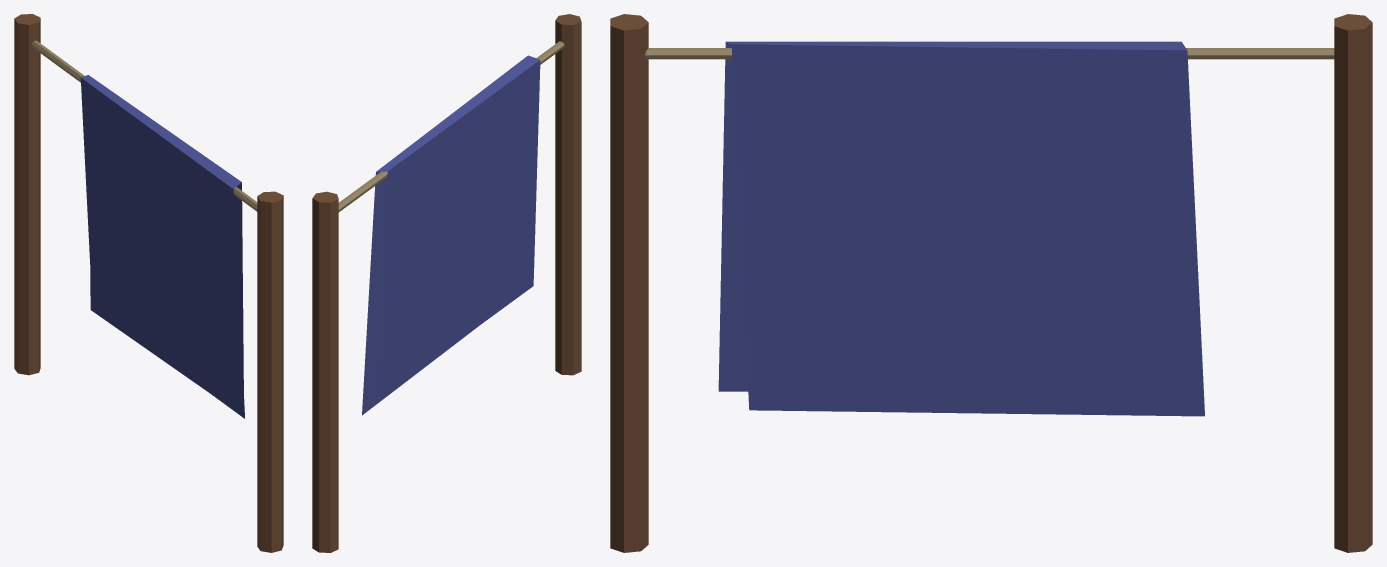
The model's file is jemuran1.fbx.
3 renders of one model, left to right at view 1: azimuth 30°, elevation 25°; view 2: azimuth 150°, elevation 25°; view 3: azimuth 270°, elevation 25°, orthographic. The views are drawn at different scales.
Parts seen in each view (by area): view 1: Cylinder.007; view 2: Cylinder.007; view 3: Cylinder.007.
Part boxes in pixels (bbox=[...]): Cylinder.007: bbox=[14, 14, 283, 552]; Cylinder.007: bbox=[312, 14, 581, 552]; Cylinder.007: bbox=[610, 14, 1372, 552].
Size of the model in its own units: 18.39 by 241 by 319.
